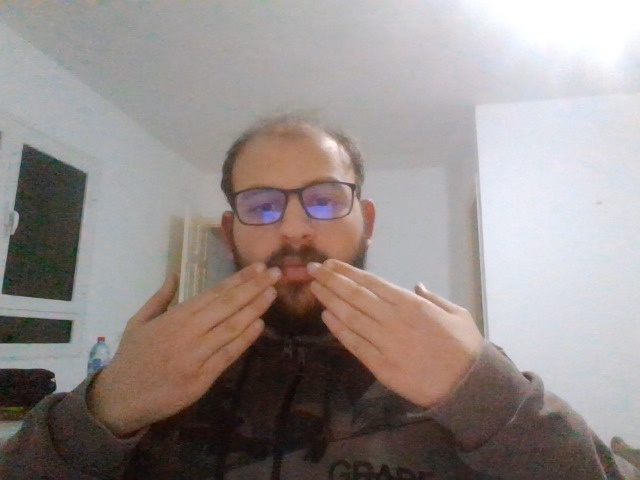Thank You: (106, 260, 476, 411)
